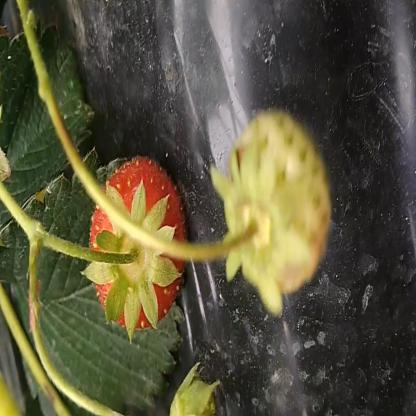ripe: (84, 157, 188, 332)
unripe: (218, 108, 334, 300)
